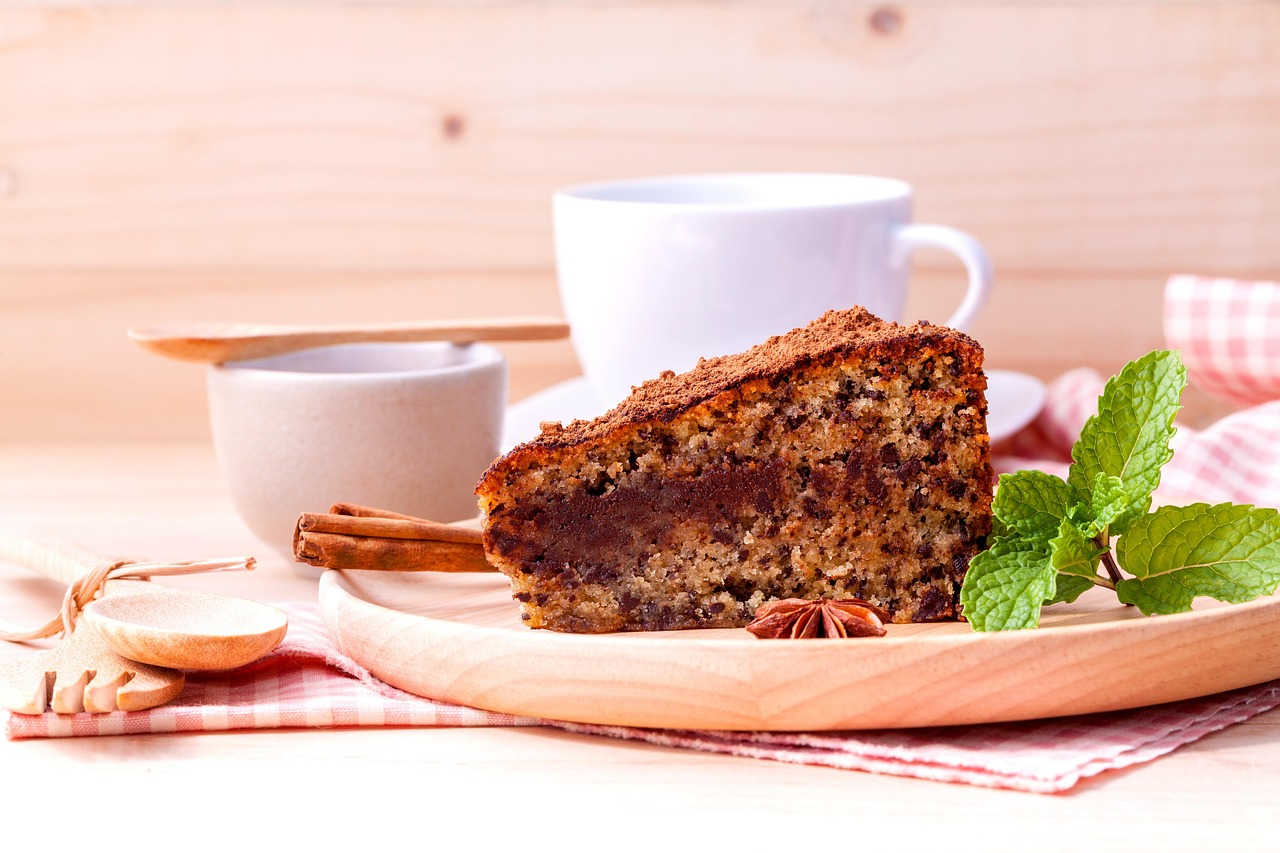mug: (547, 157, 986, 480)
